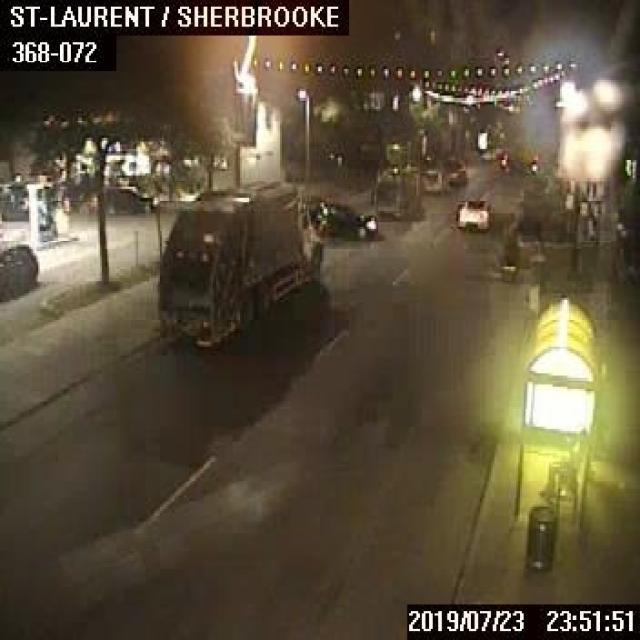pedestrian: (540, 436, 576, 494)
vehicle: (157, 186, 322, 348), (301, 194, 375, 237), (368, 162, 419, 217), (0, 238, 35, 296), (101, 184, 156, 213), (456, 193, 489, 227), (442, 153, 464, 183), (421, 167, 446, 192)
